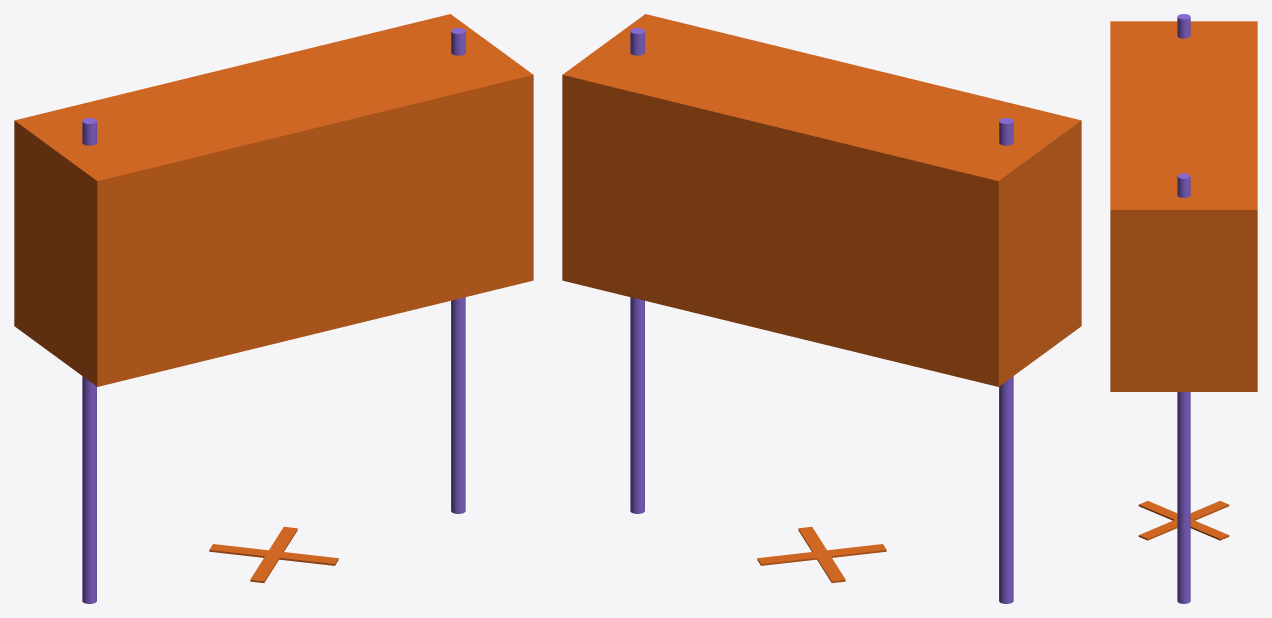
File: falling_regtangle.fbx
The picture shows the model from 3 angles, left to right: view 1: azimuth 30°, elevation 25°; view 2: azimuth 150°, elevation 25°; view 3: azimuth 270°, elevation 25°; orthographic projection. The views are drawn at different scales.
Visible parts, largest first — view 1: Cube, Cylinder, Plane; view 2: Cube, Cylinder, Plane; view 3: Cube, Cylinder, Plane.
Part boxes in pixels (bbox=[...]): Cube: bbox=[14, 14, 533, 386]; Cylinder: bbox=[82, 28, 465, 603]; Plane: bbox=[209, 526, 338, 582]; Cube: bbox=[562, 14, 1081, 386]; Cylinder: bbox=[630, 28, 1013, 603]; Plane: bbox=[757, 526, 886, 582]; Cube: bbox=[1110, 21, 1257, 391]; Cylinder: bbox=[1177, 14, 1190, 603]; Plane: bbox=[1138, 501, 1229, 540].
Size of the model in its own units: 2.83 by 2.98 by 0.9347.
